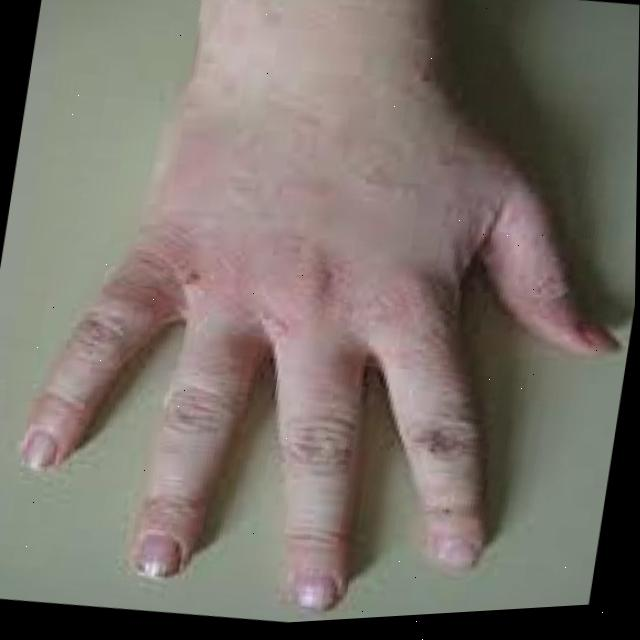Eczema: (145, 180, 431, 338)
